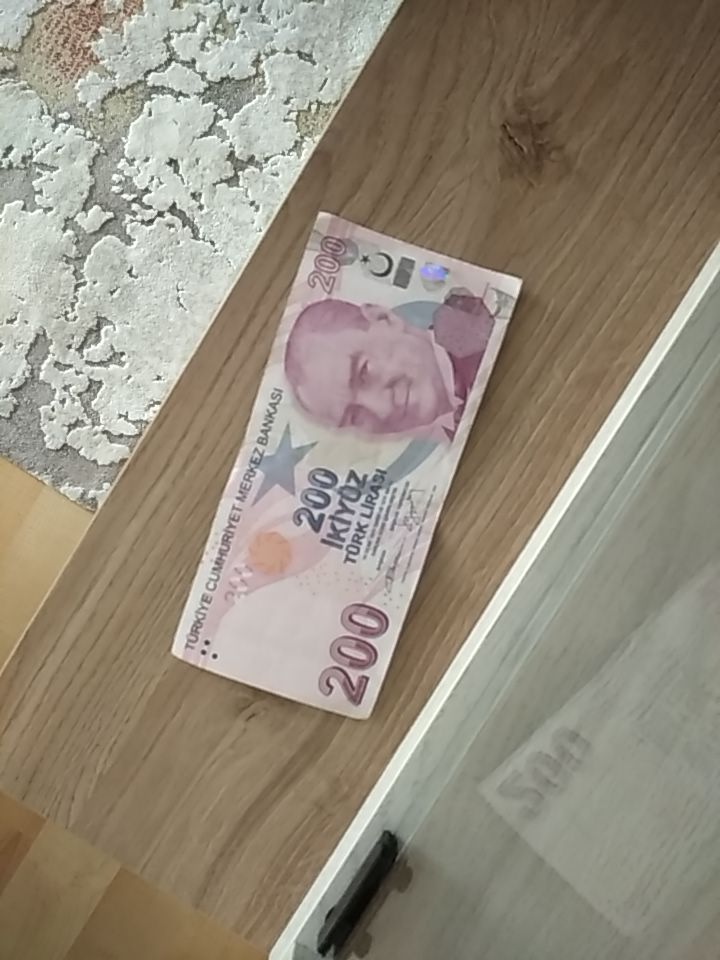200TL: (168, 208, 523, 724)
